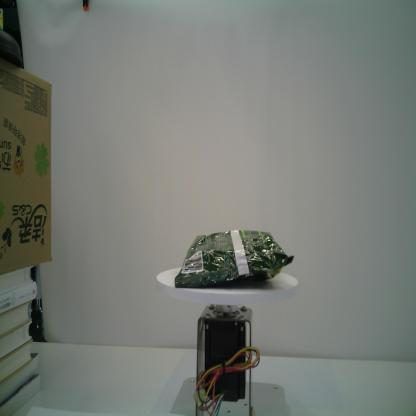Instant Noodles: (172, 226, 297, 291)
